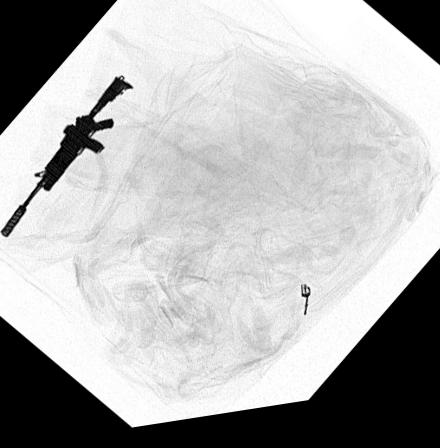Gun: (0, 75, 137, 237)
